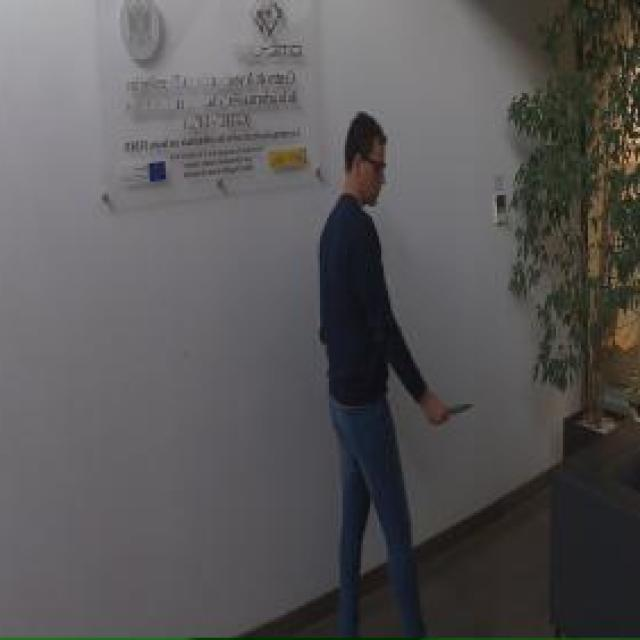knife: (434, 392, 476, 426)
